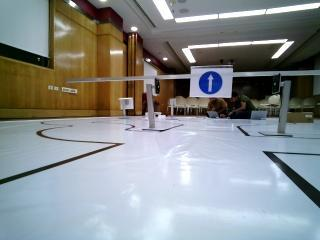straight: (192, 65, 231, 98)
